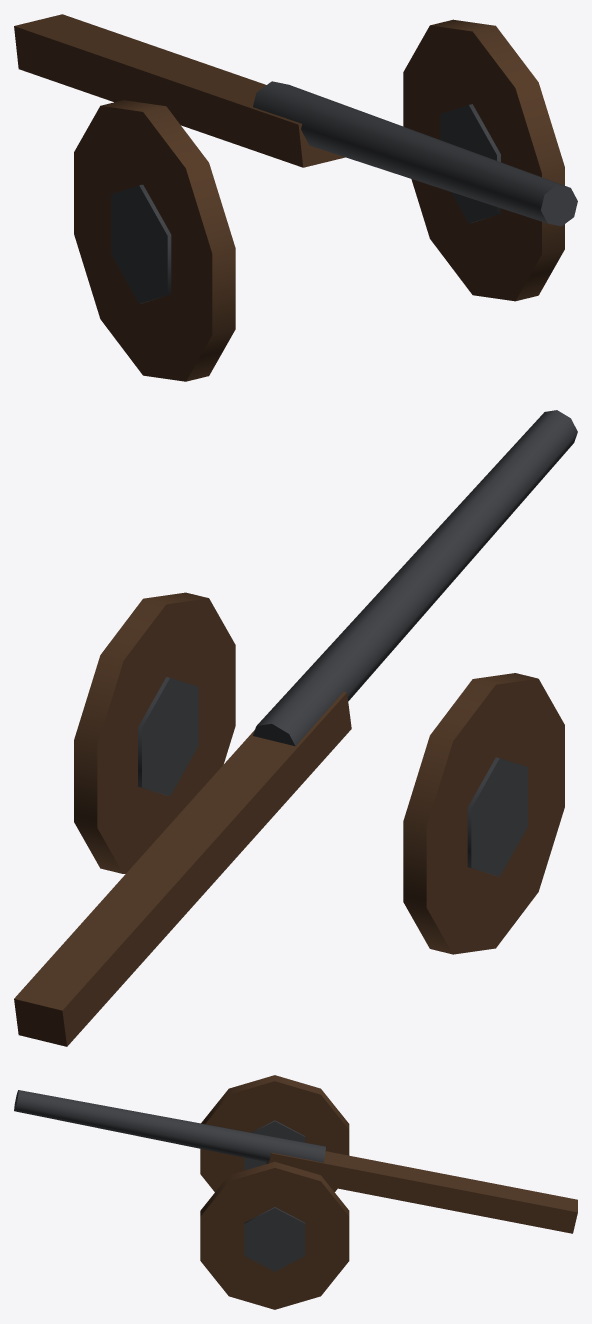
File: unit_mil_gun_a05.glb
The picture shows the model from 3 angles, top to bottom: view 1: azimuth 30°, elevation 25°; view 2: azimuth 150°, elevation 25°; view 3: azimuth 270°, elevation 25°; orthographic projection. The views are drawn at different scales.
Parts seen in each view (by area): view 1: wheel_0, wheel_1, body, barrel; view 2: wheel_0, wheel_1, body, barrel; view 3: wheel_1, body, wheel_0, barrel.
Boxes of the visible parts, bbox=[...] form: wheel_0: bbox=[74, 100, 235, 381]; wheel_1: bbox=[403, 19, 564, 301]; body: bbox=[14, 14, 345, 167]; barrel: bbox=[253, 81, 577, 226]; wheel_0: bbox=[403, 673, 564, 954]; wheel_1: bbox=[74, 592, 235, 873]; body: bbox=[14, 692, 351, 1046]; barrel: bbox=[253, 410, 577, 746]; wheel_1: bbox=[200, 1161, 349, 1309]; body: bbox=[266, 1151, 577, 1233]; wheel_0: bbox=[200, 1075, 349, 1191]; barrel: bbox=[14, 1090, 325, 1162].
Size of what is drawn, in the model's own units: 1.86 by 1.58 by 4.68.
